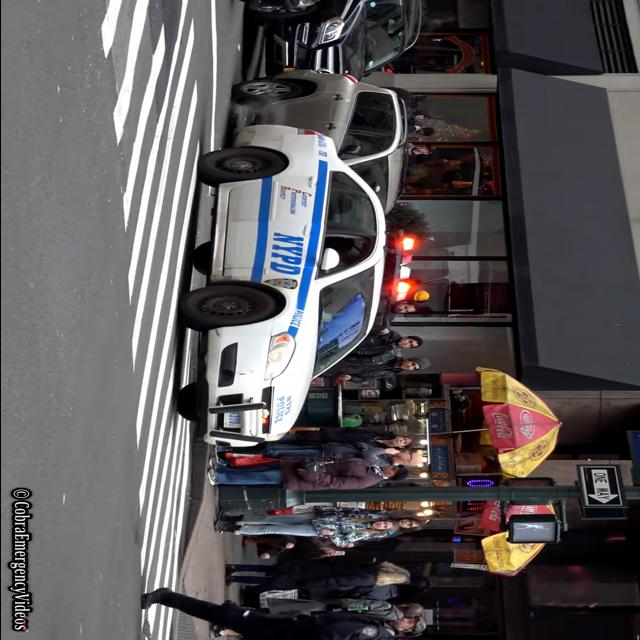emergency-vehicles: (136, 111, 430, 474)
